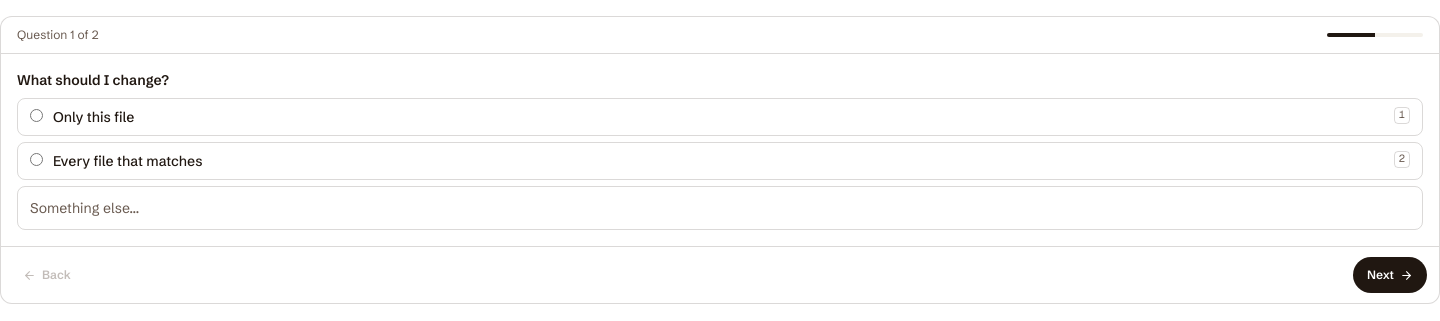
Questionnaire › uses radios for one answer and checkboxes for several
This screenshot has width=1440, height=321.
Click the radio button labelled "Only this file 1" at (36,116), box [30,109,43,122]
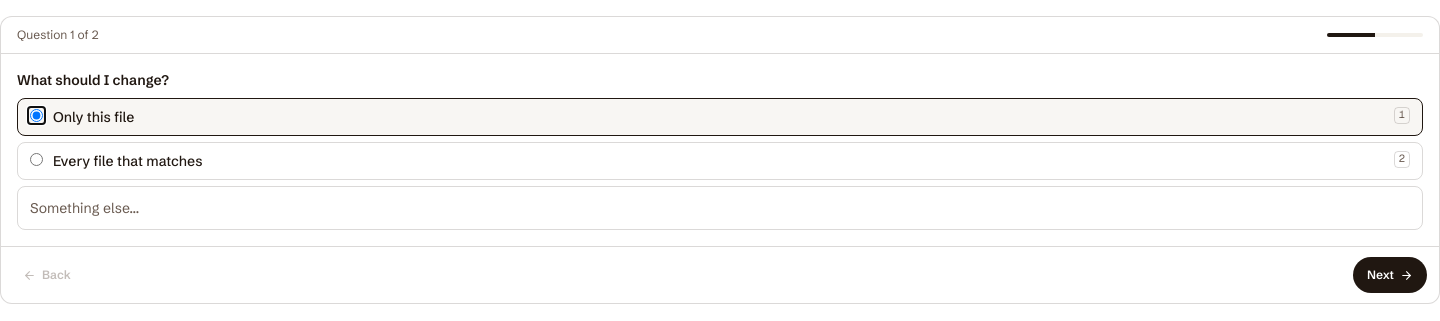
Click the button "Next" at (1390,275), box [1353,257,1427,293]
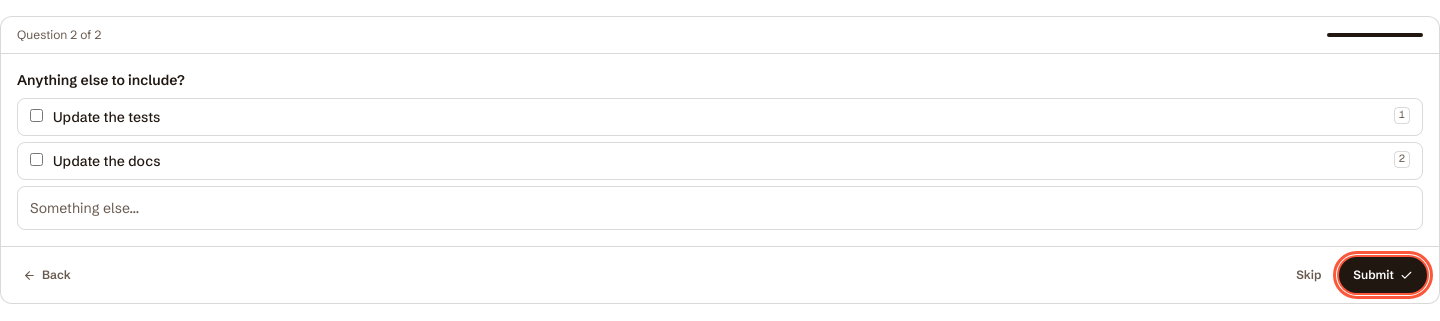
Result: the number of checkboxes is 2 at [30,109,43,122]; [30,153,43,166]
